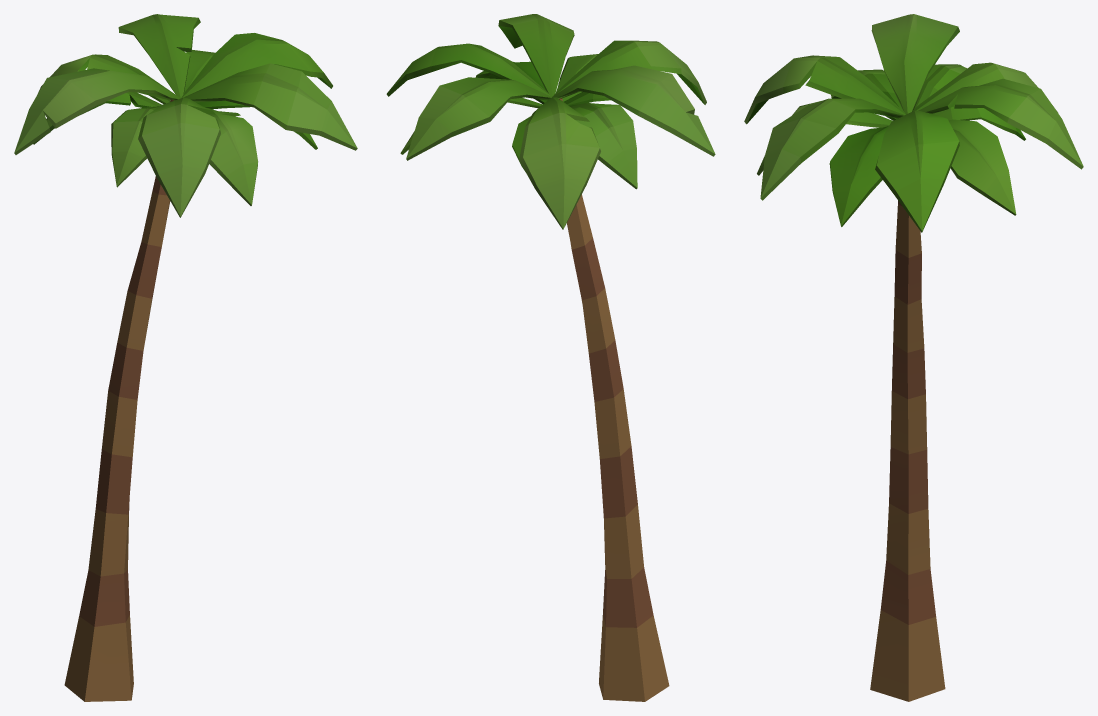
File: Anim_PalmTree_Colour.fbx
The picture shows the model from 3 angles, left to right: view 1: azimuth 30°, elevation 25°; view 2: azimuth 150°, elevation 25°; view 3: azimuth 270°, elevation 25°; orthographic projection. The views are drawn at different scales.
Parts seen in each view (by area): view 1: Anim_PalmTree_Colour; view 2: Anim_PalmTree_Colour; view 3: Anim_PalmTree_Colour.
Part boxes in pixels (bbox=[...]): Anim_PalmTree_Colour: bbox=[14, 14, 357, 701]; Anim_PalmTree_Colour: bbox=[386, 14, 715, 701]; Anim_PalmTree_Colour: bbox=[744, 14, 1083, 701].
Size of the model in its own units: 4.3 by 7.84 by 3.67.
